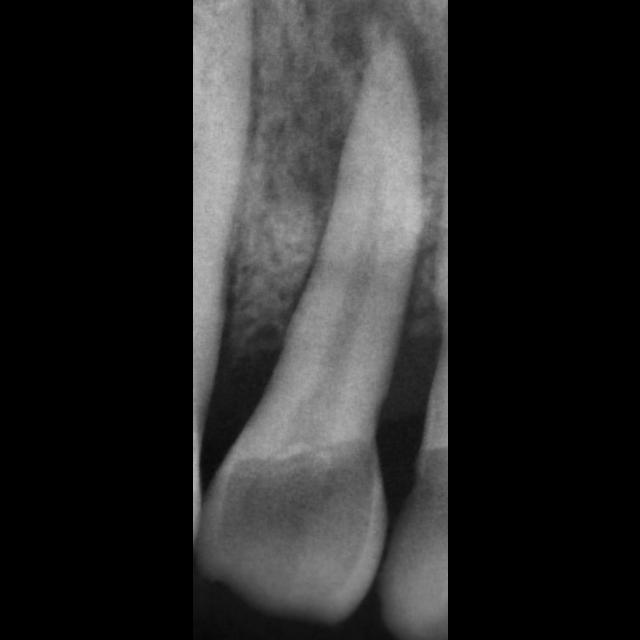tooth: (192, 10, 426, 626)
